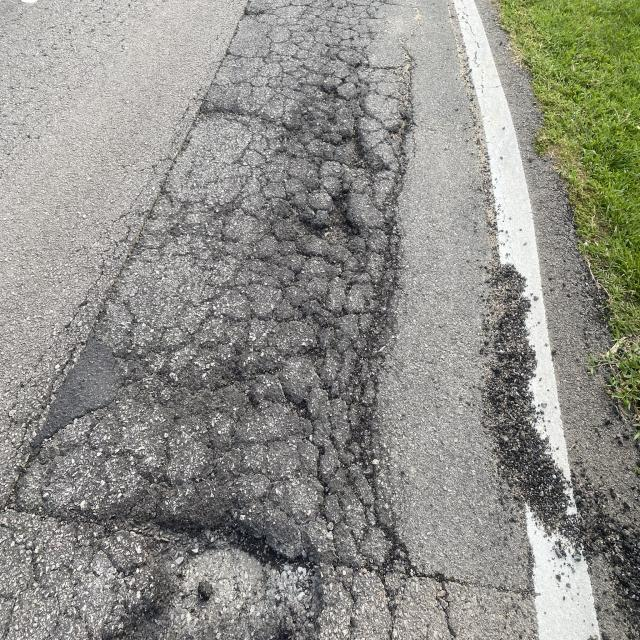Pothole: (122, 436, 334, 640), (278, 31, 374, 145), (294, 166, 359, 284)
